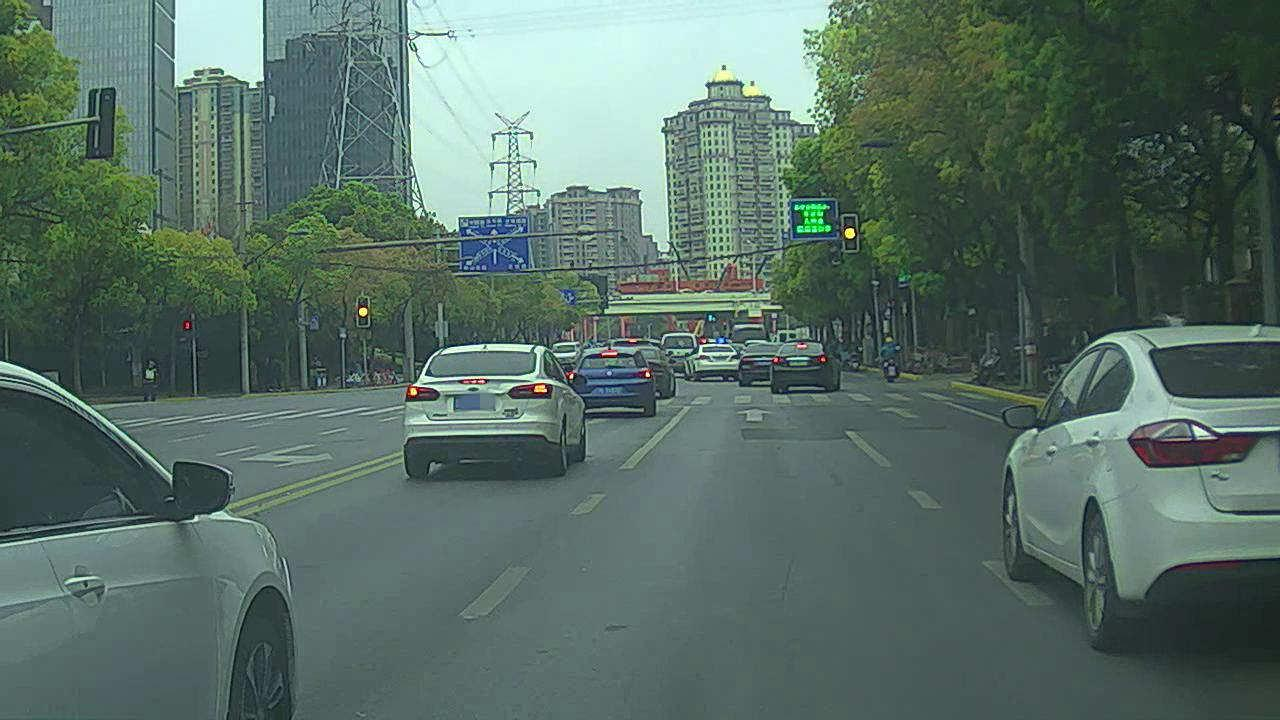traffic_light: (843, 214, 859, 251), (357, 297, 371, 327)
